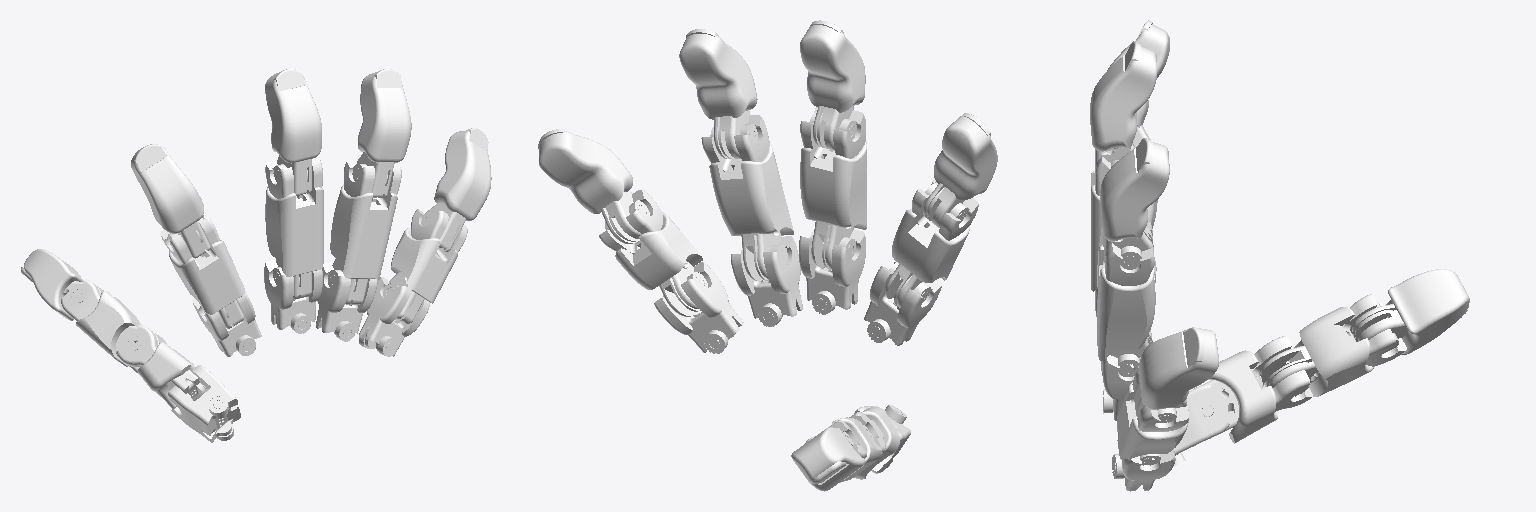
--- Facts derived from the render (not from the file) ---
Views: 3 orthographic renders of the robot side by side, from view 1: azimuth 30°, elevation 25°; view 2: azimuth 150°, elevation 25°; view 3: azimuth 270°, elevation 25°.
Robot: converted_robot — 47 links, 46 joints (16 revolute, 30 fixed); root link world; default pose: all joints at 0.
Links seen in each view (by area): view 1: ring_pp, middle_pp, ring_mp, middle_mp, pinky_pp, pinky_mp, index_mp, index_pp, thumb_mp, thumb_pp, thumb_base, pinky_um (+4 smaller); view 2: ring_pp, middle_pp, pinky_mp, ring_mp, pinky_pp, middle_mp, index_pp, index_mp, pinky_um, ring_um, middle_um, index_um (+4 smaller); view 3: thumb_mp, thumb_pp, ring_pp, ring_mp, thumb_dp, pinky_mp, middle_mp, pinky_pp, thumb_base, pinky_um, index_mp, middle_pp (+1 smaller).
Link boxes in pixels (left/top/right/bottom): ring_pp: left=328, top=160, right=401, bottom=304; middle_pp: left=265, top=160, right=323, bottom=299; ring_mp: left=352, top=69, right=411, bottom=197; middle_mp: left=265, top=69, right=321, bottom=195; pinky_pp: left=383, top=209, right=467, bottom=323; pinky_mp: left=421, top=128, right=491, bottom=251; index_mp: left=131, top=144, right=209, bottom=258; index_pp: left=160, top=215, right=244, bottom=328; thumb_mp: left=61, top=279, right=162, bottom=374; thumb_pp: left=117, top=325, right=206, bottom=408; thumb_base: left=168, top=365, right=240, bottom=442; pinky_um: left=359, top=277, right=429, bottom=356; ring_pp: left=701, top=115, right=793, bottom=280; middle_pp: left=800, top=107, right=866, bottom=269; pinky_mp: left=538, top=129, right=649, bottom=243; ring_mp: left=679, top=29, right=757, bottom=158; pinky_pp: left=599, top=190, right=707, bottom=316; middle_mp: left=800, top=20, right=865, bottom=150; index_pp: left=885, top=178, right=978, bottom=307; index_mp: left=923, top=113, right=997, bottom=227; pinky_um: left=654, top=262, right=743, bottom=353; ring_um: left=731, top=236, right=802, bottom=326; middle_um: left=799, top=229, right=865, bottom=314; index_um: left=864, top=261, right=941, bottom=345; thumb_mp: left=1260, top=294, right=1406, bottom=396; thumb_pp: left=1198, top=336, right=1312, bottom=443; ring_pp: left=1097, top=221, right=1155, bottom=376; ring_mp: left=1100, top=138, right=1169, bottom=269; thumb_dp: left=1352, top=269, right=1469, bottom=354; pinky_mp: left=1134, top=327, right=1218, bottom=422; middle_mp: left=1090, top=42, right=1156, bottom=170; pinky_pp: left=1117, top=371, right=1188, bottom=465; thumb_base: left=1173, top=385, right=1229, bottom=466; pinky_um: left=1112, top=422, right=1175, bottom=491; index_mp: left=1107, top=20, right=1169, bottom=144; middle_pp: left=1091, top=156, right=1110, bottom=310.
Bounding box of the posed robot: 0.1751 × 0.1241 × 0.1648 m (x, y, z).
Meshes: 9 distinct files referenced, 16 mesh visuals loaded (8 binary STL); not drawn: 1 (reference not matched to a file when rendering).

The robot description file, URDF, robot "converted_robot":
<?xml version="1.0" ?>
<robot name="converted_robot">
   <link name="world">
      <inertial>
         <origin xyz="0.0 0.0 0.0" rpy="0.0 0.0 0.0"/>
         <mass value="0.0"/>
         <inertia ixx="0.0" iyy="0.0" izz="0.0" ixy="0" ixz="0" iyz="0"/>
      </inertial>
   </link>
   <link name="root">
      <inertial>
         <origin xyz="0.0 0.0 0.0" rpy="0.0 0.0 0.0"/>
         <mass value="0.0"/>
         <inertia ixx="0.0" iyy="0.0" izz="0.0" ixy="0" ixz="0" iyz="0"/>
      </inertial>
   </link>
   <link name="world2root_fixed_jointbody">
      <inertial>
         <origin xyz="0.0 0.0 0.0" rpy="0.0 0.0 0.0"/>
         <mass value="0.001"/>
         <inertia ixx="1e-09" iyy="1e-09" izz="1e-09" ixy="0" ixz="0" iyz="0"/>
      </inertial>
   </link>
   <joint type="fixed" name="world2root_fixed">
      <parent link="world"/>
      <child link="world2root_fixed_jointbody"/>
      <origin xyz="0.0 0.0 0.0" rpy="0.0 0.0 0.0"/>
   </joint>
   <joint type="fixed" name="world2root_fixed_offset">
      <parent link="world2root_fixed_jointbody"/>
      <child link="root"/>
      <origin xyz="-0.0 -0.0 -0.0" rpy="0.0 0.0 0.0"/>
   </joint>
   <link name="palm">
      <inertial>
         <origin xyz="0.002881508885013908 -0.0012753763120547524 -0.00719047153594366" rpy="1.5601655784799395 0.04189793519330931 1.5819461028160493"/>
         <mass value="0.2126860092978223"/>
         <inertia ixx="0.00012178343495389645" iyy="8.316880938872915e-05" izz="5.69755490120493e-05" ixy="0" ixz="0" iyz="0"/>
      </inertial>
      <visual name="CarpalsAssembly">
         <origin xyz="0.002881508885013908 -0.0012753763120547524 -0.00719047153594366" rpy="1.5601655784799395 0.041897935193309754 1.5819461028160493"/>
         <geometry>
            <mesh filename="package://viz/models/orca_v1/urdf/converted_CarpalsAssembly.stl"/>
         </geometry>
         <material name="white"/>
      </visual>
   </link>
   <link name="root2palm_fixed_jointbody">
      <inertial>
         <origin xyz="0.0 0.0 0.0" rpy="0.0 0.0 0.0"/>
         <mass value="0.001"/>
         <inertia ixx="1e-09" iyy="1e-09" izz="1e-09" ixy="0" ixz="0" iyz="0"/>
      </inertial>
   </link>
   <joint type="fixed" name="root2palm_fixed">
      <parent link="root"/>
      <child link="root2palm_fixed_jointbody"/>
      <origin xyz="0.03862890845062728 0.0014412498723578074 0.14109038811689056" rpy="-6.123233995736781e-17 -4.440892098500626e-16 1.942890293094021e-16"/>
   </joint>
   <joint type="fixed" name="root2palm_fixed_offset">
      <parent link="root2palm_fixed_jointbody"/>
      <child link="palm"/>
      <origin xyz="-0.0 -0.0 -0.0" rpy="0.0 0.0 0.0"/>
   </joint>
   <link name="thumb_base">
      <inertial>
         <origin xyz="0.010529379149451916 -1.0212576814423867e-05 8.495774869309947e-06" rpy="1.57634205707723 0.005687598820466988 1.5702436138290756"/>
         <mass value="0.0074875144010899545"/>
         <inertia ixx="4.915455361035425e-07" iyy="4.2329004702934465e-07" izz="4.1073011191217545e-07" ixy="0" ixz="0" iyz="0"/>
      </inertial>
      <visual name="T-TP-Assembly">
         <origin xyz="0.010529379149451916 -1.0212576814423867e-05 8.495774869309947e-06" rpy="1.5763420570772302 0.005687598820466988 1.5702436138290758"/>
         <geometry>
            <mesh filename="package://viz/models/orca_v1/urdf/converted_T-TP-Assembly.stl"/>
         </geometry>
         <material name="white"/>
      </visual>
   </link>
   <link name="root2thumb_base_jointbody">
      <inertial>
         <origin xyz="0.0 0.0 0.0" rpy="0.0 0.0 0.0"/>
         <mass value="0.001"/>
         <inertia ixx="1e-09" iyy="1e-09" izz="1e-09" ixy="0" ixz="0" iyz="0"/>
      </inertial>
   </link>
   <joint type="revolute" name="root2thumb_base">
      <parent link="palm"/>
      <child link="root2thumb_base_jointbody"/>
      <origin xyz="-0.026596228805379245 0.012467608905357173 -0.013731317517900202" rpy="-2.623243999248972 0.36429799059196055 -1.2778314442697774"/>
      <axis xyz="-2.920774733183862e-12 3.3306690738754696e-16 1.0000000000000002"/>
      <limit lower="-0.9250245035569946" upper="0.8377580409572782" effort="100" velocity="100"/>
   </joint>
   <joint type="fixed" name="root2thumb_base_offset">
      <parent link="root2thumb_base_jointbody"/>
      <child link="thumb_base"/>
      <origin xyz="-0.016999999999975042 -6.852157730108388e-17 -2.7301511745791984e-14" rpy="0.0 0.0 0.0"/>
   </joint>
   <link name="thumb_pp">
      <inertial>
         <origin xyz="0.01701004352669714 4.7003303999020595e-05 -8.686628129100978e-05" rpy="1.626541463931455 -1.4723264578922137 1.5252609362500364"/>
         <mass value="0.01402737042708516"/>
         <inertia ixx="1.3800850209807166e-06" iyy="1.1809029407566535e-06" izz="6.941321836664285e-07" ixy="0" ixz="0" iyz="0"/>
      </inertial>
      <visual name="T-AP-Assembly">
         <origin xyz="0.01701004352669714 4.7003303999020595e-05 -8.686628129100978e-05" rpy="1.6265414639314582 -1.4723264578922137 1.5252609362500333"/>
         <geometry>
            <mesh filename="package://viz/models/orca_v1/urdf/converted_T-AP-Assembly.stl"/>
         </geometry>
         <material name="white"/>
      </visual>
   </link>
   <link name="thumb_base2pp_jointbody">
      <inertial>
         <origin xyz="0.0 0.0 0.0" rpy="0.0 0.0 0.0"/>
         <mass value="0.001"/>
         <inertia ixx="1e-09" iyy="1e-09" izz="1e-09" ixy="0" ixz="0" iyz="0"/>
      </inertial>
   </link>
   <joint type="revolute" name="thumb_base2pp">
      <parent link="thumb_base"/>
      <child link="thumb_base2pp_jointbody"/>
      <origin xyz="-2.0816681711721685e-17 -0.006690243410563722 -0.00030669391648898483" rpy="1.9198621771937625 2.220446049250313e-16 -1.1102230246251565e-16"/>
      <axis xyz="-1.1102230246251565e-16 0.34202014332566866 0.9396926207859075"/>
      <limit lower="-0.7853981633974483" upper="0.7853981633974483" effort="100" velocity="100"/>
   </joint>
   <joint type="fixed" name="thumb_base2pp_offset">
      <parent link="thumb_base2pp_jointbody"/>
      <child link="thumb_pp"/>
      <origin xyz="-0.03 -0.002 -0.0063916678614429154" rpy="0.0 0.0 0.0"/>
   </joint>
   <link name="thumb_mp">
      <inertial>
         <origin xyz="0.0014151363770926754 5.956925618599269e-06 0.013627702691985757" rpy="-0.0012564590227194135 0.024765536359687035 0.0006197733490160217"/>
         <mass value="0.015497848277221124"/>
         <inertia ixx="1.846626969865921e-06" iyy="1.771855178330145e-06" izz="6.563672279788464e-07" ixy="0" ixz="0" iyz="0"/>
      </inertial>
      <visual name="P-PP-Assembly">
         <origin xyz="0.0014151363770926754 5.956925618599269e-06 0.013627702691985757" rpy="-0.0012564590227194135 0.024765536359687035 0.0006197733490160217"/>
         <geometry>
            <mesh filename="package://viz/models/orca_v1/urdf/converted_P-PP-Assembly.stl"/>
         </geometry>
         <material name="white"/>
      </visual>
   </link>
   <link name="thumb_pp2mp_jointbody">
      <inertial>
         <origin xyz="0.0 0.0 0.0" rpy="0.0 0.0 0.0"/>
         <mass value="0.001"/>
         <inertia ixx="1e-09" iyy="1e-09" izz="1e-09" ixy="0" ixz="0" iyz="0"/>
      </inertial>
   </link>
   <joint type="revolute" name="thumb_pp2mp">
      <parent link="thumb_pp"/>
      <child link="thumb_pp2mp_jointbody"/>
      <origin xyz="4.708523807784693e-17 1.513645907263937e-16 -4.2834101494079344e-17" rpy="-3.1415926535897927 1.5707963267948948 0.0"/>
      <axis xyz="-1.27675647831893e-15 -0.9999999999999994 4.996003610813204e-16"/>
      <limit lower="-0.3490658503988659" upper="2.007128639793479" effort="100" velocity="100"/>
   </joint>
   <joint type="fixed" name="thumb_pp2mp_offset">
      <parent link="thumb_pp2mp_jointbody"/>
      <child link="thumb_mp"/>
      <origin xyz="0.0 0.0 0.0" rpy="0.0 0.0 0.0"/>
   </joint>
   <link name="thumb_dp">
      <inertial>
         <origin xyz="0.0019263407363933048 1.4557758490367377e-05 0.013252605089620229" rpy="0.0005042469448421566 -0.01731928165759511 -0.007693848109361373"/>
         <mass value="0.01818889883021656"/>
         <inertia ixx="1.7342479877374563e-06" iyy="1.6928601517092007e-06" izz="6.72000990269703e-07" ixy="0" ixz="0" iyz="0"/>
      </inertial>
      <visual name="ThumbTipAssembly">
         <origin xyz="0.0019263407363933048 1.4557758490367377e-05 0.013252605089620229" rpy="0.0005042469448421566 -0.01731928165759511 -0.007693848109361373"/>
         <geometry>
            <mesh filename="package://viz/models/orca_v1/urdf/converted_ThumbTipAssembly.stl"/>
         </geometry>
         <material name="white"/>
      </visual>
   </link>
   <link name="thumb_mp2dp_jointbody">
      <inertial>
         <origin xyz="0.0 0.0 0.0" rpy="0.0 0.0 0.0"/>
         <mass value="0.001"/>
         <inertia ixx="1e-09" iyy="1e-09" izz="1e-09" ixy="0" ixz="0" iyz="0"/>
      </inertial>
   </link>
   <joint type="revolute" name="thumb_mp2dp">
      <parent link="thumb_mp"/>
      <child link="thumb_mp2dp_jointbody"/>
      <origin xyz="0.0004999999999845258 1.960237527853792e-16 0.03299999999999989" rpy="-4.440892098500625e-16 -4.440892098500626e-16 -1.110223024625157e-15"/>
      <axis xyz="-1.3877787807814457e-16 -1.0000000000000018 1.6653345369377348e-16"/>
      <limit lower="-0.3490658503988659" upper="1.7453292519943295" effort="100" velocity="100"/>
   </joint>
   <joint type="fixed" name="thumb_mp2dp_offset">
      <parent link="thumb_mp2dp_jointbody"/>
      <child link="thumb_dp"/>
      <origin xyz="0.0 0.0 -0.0" rpy="0.0 0.0 0.0"/>
   </joint>
   <link name="thumb_fingertip">
      <inertial>
         <origin xyz="0.0 0.0 0.03" rpy="0.0 0.0 0.0"/>
         <mass value="0.0"/>
         <inertia ixx="0.0" iyy="0.0" izz="0.0" ixy="0" ixz="0" iyz="0"/>
      </inertial>
   </link>
   <link name="thumb_dp2thumb_fingertip_fixed_jointbody">
      <inertial>
         <origin xyz="0.0 0.0 0.0" rpy="0.0 0.0 0.0"/>
         <mass value="0.001"/>
         <inertia ixx="1e-09" iyy="1e-09" izz="1e-09" ixy="0" ixz="0" iyz="0"/>
      </inertial>
   </link>
   <joint type="fixed" name="thumb_dp2thumb_fingertip_fixed">
      <parent link="thumb_dp"/>
      <child link="thumb_dp2thumb_fingertip_fixed_jointbody"/>
      <origin xyz="0.0 0.0 0.03" rpy="0.0 0.0 0.0"/>
   </joint>
   <joint type="fixed" name="thumb_dp2thumb_fingertip_fixed_offset">
      <parent link="thumb_dp2thumb_fingertip_fixed_jointbody"/>
      <child link="thumb_fingertip"/>
      <origin xyz="-0.0 -0.0 -0.0" rpy="0.0 0.0 0.0"/>
   </joint>
   <link name="index_um">
      <inertial>
         <origin xyz="0.011354078973426326 -1.7071698548170895e-06 -3.5584781475470163e-06" rpy="-0.7312124368167698 -1.5694148998517659 -2.4105624217590647"/>
         <mass value="0.006625913032045117"/>
         <inertia ixx="4.786348664569036e-07" iyy="4.4192916777269033e-07" izz="2.7095034582421024e-07" ixy="0" ixz="0" iyz="0"/>
      </inertial>
      <visual name="AP-Assembly">
         <origin xyz="0.011354078973426326 -1.7071698548170895e-06 -3.5584781475470163e-06" rpy="-0.7312124368167698 -1.5694148998517659 -2.4105624217590647"/>
         <geometry>
            <mesh filename="package://viz/models/orca_v1/urdf/converted_AP-Assembly.stl"/>
         </geometry>
         <material name="white"/>
      </visual>
   </link>
   <link name="index_abd_jointbody">
      <inertial>
         <origin xyz="0.0 0.0 0.0" rpy="0.0 0.0 0.0"/>
         <mass value="0.001"/>
         <inertia ixx="1e-09" iyy="1e-09" izz="1e-09" ixy="0" ixz="0" iyz="0"/>
      </inertial>
   </link>
   <joint type="revolute" name="index_abd">
      <parent link="palm"/>
      <child link="index_abd_jointbody"/>
      <origin xyz="-0.02409178493002779 0.0019042822195537534 0.025160679302658893" rpy="1.608102038715379 1.1529632074851635 -0.051848338904223135"/>
      <axis xyz="4.163336342344337e-17 9.992007221626409e-16 -1.0000000000000013"/>
      <limit lower="-0.5235987755982988" upper="0.5235987755982988" effort="100" velocity="100"/>
   </joint>
   <joint type="fixed" name="index_abd_offset">
      <parent link="index_abd_jointbody"/>
      <child link="index_um"/>
      <origin xyz="-0.020000000000000052 2.3852447794681098e-18 -4.336808689942018e-19" rpy="0.0 0.0 0.0"/>
   </joint>
   <link name="index_pp">
      <inertial>
         <origin xyz="0.0014143363519175582 4.156494435167203e-06 0.01613338680226874" rpy="-0.001102572366200157 0.015527459248408038 0.0006067795128342916"/>
         <mass value="0.018700586463984262"/>
         <inertia ixx="2.662336289616557e-06" iyy="2.5653412309208117e-06" izz="8.02677011751458e-07" ixy="0" ixz="0" iyz="0"/>
      </inertial>
      <visual name="I-PP-Assembly">
         <origin xyz="0.0014143363519175582 4.156494435167203e-06 0.01613338680226874" rpy="-0.001102572366200157 0.015527459248408038 0.0006067795128342916"/>
         <geometry>
            <mesh filename="package://viz/models/orca_v1/urdf/converted_I-PP-Assembly.stl"/>
         </geometry>
         <material name="white"/>
      </visual>
   </link>
   <link name="root2index_pp_jointbody">
      <inertial>
         <origin xyz="0.0 0.0 0.0" rpy="0.0 0.0 0.0"/>
         <mass value="0.001"/>
         <inertia ixx="1e-09" iyy="1e-09" izz="1e-09" ixy="0" ixz="0" iyz="0"/>
      </inertial>
   </link>
   <joint type="revolute" name="root2index_pp">
      <parent link="index_um"/>
      <child link="root2index_pp_jointbody"/>
      <origin xyz="-2.5541056475587942e-17 1.0557908552474885e-17 -8.628646044820514e-18" rpy="-7.850462293418875e-17 -1.5707963267948963 0.0"/>
      <axis xyz="-1.1102230246251565e-15 -0.9999999999999998 -8.326672684688674e-17"/>
      <limit lower="-0.3490658503988659" upper="1.9198621771937625" effort="100" velocity="100"/>
   </joint>
   <joint type="fixed" name="root2index_pp_offset">
      <parent link="root2index_pp_jointbody"/>
      <child link="index_pp"/>
      <origin xyz="8.62864604482052e-18 -1.0557908552474884e-17 -2.5541056475587933e-17" rpy="0.0 0.0 0.0"/>
   </joint>
   <link name="index_mp">
      <inertial>
         <origin xyz="0.0004395758025904904 2.294210842752089e-05 0.017234999921076924" rpy="-0.0002952414540531474 -0.13694120498566353 0.004582776782163111"/>
         <mass value="0.018229214728618118"/>
         <inertia ixx="2.7483316705449915e-06" iyy="2.7260398150926247e-06" izz="5.982307965118894e-07" ixy="0" ixz="0" iyz="0"/>
      </inertial>
      <visual name="FingerTipAssembly">
         <origin xyz="0.0004395758025904904 2.294210842752089e-05 0.017234999921076924" rpy="-0.0002952414540531474 -0.13694120498566353 0.004582776782163111"/>
         <geometry>
            <mesh filename="package://viz/models/orca_v1/urdf/converted_FingerTipAssembly.stl"/>
         </geometry>
         <material name="white"/>
      </visual>
   </link>
   <link name="index_pp2mp_jointbody">
      <inertial>
         <origin xyz="0.0 0.0 0.0" rpy="0.0 0.0 0.0"/>
         <mass value="0.001"/>
         <inertia ixx="1e-09" iyy="1e-09" izz="1e-09" ixy="0" ixz="0" iyz="0"/>
      </inertial>
   </link>
   <joint type="revolute" name="index_pp2mp">
      <parent link="index_pp"/>
      <child link="index_pp2mp_jointbody"/>
      <origin xyz="0.0004999999999839601 6.589248156966668e-17 0.038" rpy="0.0 0.0 1.1102230246251565e-16"/>
      <axis xyz="-1.1102230246251565e-15 -0.9999999999999998 -8.326672684688674e-17"/>
      <limit lower="-0.3490658503988659" upper="2.2689280275926285" effort="100" velocity="100"/>
   </joint>
   <joint type="fixed" name="index_pp2mp_offset">
      <parent link="index_pp2mp_jointbody"/>
      <child link="index_mp"/>
      <origin xyz="4.506562989359519e-18 -5.895358766575946e-17 -6.487401240321147e-17" rpy="0.0 0.0 0.0"/>
   </joint>
   <link name="index_fingertip">
      <inertial>
         <origin xyz="-0.009 0.0 0.04" rpy="0.0 0.0 0.0"/>
         <mass value="0.0"/>
         <inertia ixx="0.0" iyy="0.0" izz="0.0" ixy="0" ixz="0" iyz="0"/>
      </inertial>
   </link>
   <link name="index_mp2index_fingertip_fixed_jointbody">
      <inertial>
         <origin xyz="0.0 0.0 0.0" rpy="0.0 0.0 0.0"/>
         <mass value="0.001"/>
         <inertia ixx="1e-09" iyy="1e-09" izz="1e-09" ixy="0" ixz="0" iyz="0"/>
      </inertial>
   </link>
   <joint type="fixed" name="index_mp2index_fingertip_fixed">
      <parent link="index_mp"/>
      <child link="index_mp2index_fingertip_fixed_jointbody"/>
      <origin xyz="-0.009 0.0 0.04" rpy="0.0 0.0 0.0"/>
   </joint>
   <joint type="fixed" name="index_mp2index_fingertip_fixed_offset">
      <parent link="index_mp2index_fingertip_fixed_jointbody"/>
      <child link="index_fingertip"/>
      <origin xyz="-0.0 -0.0 -0.0" rpy="0.0 0.0 0.0"/>
   </joint>
   <link name="pinky_um">
      <inertial>
         <origin xyz="0.011354078973426326 -1.7071698548170895e-06 -3.5584781475470163e-06" rpy="-0.7312124368167698 -1.5694148998517659 -2.4105624217590647"/>
         <mass value="0.006625913032045117"/>
         <inertia ixx="4.786348664569036e-07" iyy="4.4192916777269033e-07" izz="2.7095034582421024e-07" ixy="0" ixz="0" iyz="0"/>
      </inertial>
      <visual name="AP-Assembly">
         <origin xyz="0.011354078973426326 -1.7071698548170895e-06 -3.5584781475470163e-06" rpy="-0.7312124368167698 -1.5694148998517659 -2.4105624217590647"/>
         <geometry>
            <mesh filename="package://viz/models/orca_v1/urdf/converted_AP-Assembly.stl"/>
         </geometry>
         <material name="white"/>
      </visual>
   </link>
   <link name="pinky_abd_jointbody">
      <inertial>
         <origin xyz="0.0 0.0 0.0" rpy="0.0 0.0 0.0"/>
         <mass value="0.001"/>
         <inertia ixx="1e-09" iyy="1e-09" izz="1e-09" ixy="0" ixz="0" iyz="0"/>
      </inertial>
   </link>
   <joint type="revolute" name="pinky_abd">
      <parent link="palm"/>
      <child link="pinky_abd_jointbody"/>
      <origin xyz="0.04258768282792981 0.004991925321003577 0.007247738795820427" rpy="-1.4969430651841689 0.8614853700810636 -2.883730096597108"/>
      <axis xyz="1.942890293094024e-16 -5.551115123125783e-16 -0.9999999999999997"/>
      <limit lower="-0.5235987755982988" upper="0.5235987755982988" effort="100" velocity="100"/>
   </joint>
   <joint type="fixed" name="pinky_abd_offset">
      <parent link="pinky_abd_jointbody"/>
      <child link="pinky_um"/>
      <origin xyz="-0.020000000000000014 -2.42861286636753e-17 -6.071532165918825e-18" rpy="0.0 0.0 0.0"/>
   </joint>
   <link name="pinky_pp">
      <inertial>
         <origin xyz="0.0014151363770926754 5.956925618599269e-06 0.013627702691985757" rpy="-0.0012564590227194135 0.024765536359687035 0.0006197733490160217"/>
         <mass value="0.015497848277221124"/>
         <inertia ixx="1.846626969865921e-06" iyy="1.771855178330145e-06" izz="6.563672279788464e-07" ixy="0" ixz="0" iyz="0"/>
      </inertial>
      <visual name="P-PP-Assembly">
         <origin xyz="0.0014151363770926754 5.956925618599269e-06 0.013627702691985757" rpy="-0.0012564590227194135 0.024765536359687035 0.0006197733490160217"/>
         <geometry>
            <mesh filename="package://viz/models/orca_v1/urdf/converted_P-PP-Assembly.stl"/>
         </geometry>
         <material name="white"/>
      </visual>
   </link>
   <link name="root2pinky_pp_jointbody">
      <inertial>
         <origin xyz="0.0 0.0 0.0" rpy="0.0 0.0 0.0"/>
         <mass value="0.001"/>
         <inertia ixx="1e-09" iyy="1e-09" izz="1e-09" ixy="0" ixz="0" iyz="0"/>
      </inertial>
   </link>
   <joint type="revolute" name="root2pinky_pp">
      <parent link="pinky_um"/>
      <child link="root2pinky_pp_jointbody"/>
      <origin xyz="-9.80194474041885e-17 2.8970456895533516e-17 -1.0346526674750982e-18" rpy="7.850462293418872e-17 -1.5707963267948961 0.0"/>
      <axis xyz="-1.6653345369377348e-16 -1.0000000000000004 -2.220446049250313e-16"/>
      <limit lower="-0.3490658503988659" upper="1.9198621771937625" effort="100" velocity="100"/>
   </joint>
   <joint type="fixed" name="root2pinky_pp_offset">
      <parent link="root2pinky_pp_jointbody"/>
      <child link="pinky_pp"/>
      <origin xyz="-3.4409772224679328e-18 -3.9175276362032155e-17 -1.0647123163719203e-16" rpy="0.0 0.0 0.0"/>
   </joint>
   <link name="pinky_mp">
      <inertial>
         <origin xyz="0.0004395758025904904 2.294210842752089e-05 0.017234999921076924" rpy="-0.0002952414540531474 -0.13694120498566353 0.004582776782163111"/>
         <mass value="0.018229214728618118"/>
         <inertia ixx="2.7483316705449915e-06" iyy="2.7260398150926247e-06" izz="5.982307965118894e-07" ixy="0" ixz="0" iyz="0"/>
      </inertial>
      <visual name="FingerTipAssembly">
         <origin xyz="0.0004395758025904904 2.294210842752089e-05 0.017234999921076924" rpy="-0.0002952414540531474 -0.13694120498566353 0.004582776782163111"/>
         <geometry>
            <mesh filename="package://viz/models/orca_v1/urdf/converted_FingerTipAssembly.stl"/>
         </geometry>
         <material name="white"/>
      </visual>
   </link>
   <link name="pinky_pp2mp_jointbody">
      <inertial>
         <origin xyz="0.0 0.0 0.0" rpy="0.0 0.0 0.0"/>
         <mass value="0.001"/>
         <inertia ixx="1e-09" iyy="1e-09" izz="1e-09" ixy="0" ixz="0" iyz="0"/>
      </inertial>
   </link>
   <joint type="revolute" name="pinky_pp2mp">
      <parent link="pinky_pp"/>
      <child link="pinky_pp2mp_jointbody"/>
      <origin xyz="0.0004999999999844908 -2.39390297194962e-18 0.032999999999999946" rpy="-1.1102230246251565e-16 0.0 -1.1102230246251565e-16"/>
      <axis xyz="-2.7755575615628914e-16 -1.0000000000000007 -2.498001805406602e-16"/>
      <limit lower="-0.3490658503988659" upper="2.2689280275926285" effort="100" velocity="100"/>
   </joint>
   <joint type="fixed" name="pinky_pp2mp_offset">
      <parent link="pinky_pp2mp_jointbody"/>
      <child link="pinky_mp"/>
      <origin xyz="4.630531374131085e-18 3.7088372491485756e-17 3.145406773126967e-17" rpy="0.0 0.0 0.0"/>
   </joint>
   <link name="pinky_fingertip">
      <inertial>
         <origin xyz="-0.009 0.0 0.04" rpy="0.0 0.0 0.0"/>
         <mass value="0.0"/>
         <inertia ixx="0.0" iyy="0.0" izz="0.0" ixy="0" ixz="0" iyz="0"/>
      </inertial>
   </link>
   <link name="pinky_mp2pinky_fingertip_fixed_jointbody">
      <inertial>
         <origin xyz="0.0 0.0 0.0" rpy="0.0 0.0 0.0"/>
         <mass value="0.001"/>
         <inertia ixx="1e-09" iyy="1e-09" izz="1e-09" ixy="0" ixz="0" iyz="0"/>
      </inertial>
   </link>
   <joint type="fixed" name="pinky_mp2pinky_fingertip_fixed">
      <parent link="pinky_mp"/>
      <child link="pinky_mp2pinky_fingertip_fixed_jointbody"/>
      <origin xyz="-0.009 0.0 0.04" rpy="0.0 0.0 0.0"/>
   </joint>
   <joint type="fixed" name="pinky_mp2pinky_fingertip_fixed_offset">
      <parent link="pinky_mp2pinky_fingertip_fixed_jointbody"/>
      <child link="pinky_fingertip"/>
      <origin xyz="-0.0 -0.0 -0.0" rpy="0.0 0.0 0.0"/>
   </joint>
   <link name="middle_um">
      <inertial>
         <origin xyz="0.011354078973426326 -1.7071698548170895e-06 -3.5584781475470163e-06" rpy="-0.7312124368167698 -1.5694148998517659 -2.4105624217590647"/>
         <mass value="0.006625913032045117"/>
         <inertia ixx="4.786348664569036e-07" iyy="4.4192916777269033e-07" izz="2.7095034582421024e-07" ixy="0" ixz="0" iyz="0"/>
      </inertial>
      <visual name="AP-Assembly">
         <origin xyz="0.011354078973426326 -1.7071698548170895e-06 -3.5584781475470163e-06" rpy="-0.7312124368167698 -1.5694148998517659 -2.4105624217590647"/>
         <geometry>
            <mesh filename="package://viz/models/orca_v1/urdf/converted_AP-Assembly.stl"/>
         </geometry>
         <material name="white"/>
      </visual>
   </link>
   <link name="middle_abd_jointbody">
      <inertial>
         <origin xyz="0.0 0.0 0.0" rpy="0.0 0.0 0.0"/>
         <mass value="0.001"/>
         <inertia ixx="1e-09" iyy="1e-09" izz="1e-09" ixy="0" ixz="0" iyz="0"/>
      </inertial>
   </link>
   <joint type="revolute" name="middle_abd">
      <parent link="palm"/>
      <child link="middle_abd_jointbody"/>
      <origin xyz="4.881579836291013e-18 -8.567697285510997e-18 0.03" rpy="1.5707963267948966 1.5707963267948966 0.0"/>
      <axis xyz="-9.645057161491277e-31 -1.6653345369377348e-16 -0.9999999999999998"/>
      <limit lower="-0.5235987755982988" upper="0.5235987755982988" effort="100" velocity="100"/>
   </joint>
   <joint type="fixed" name="middle_abd_offset">
      <parent link="middle_abd_jointbody"/>
      <child link="middle_um"/>
      <origin xyz="-0.019999999999999987 -3.771356811665857e-18 1.701695755040975e-18" rpy="0.0 0.0 0.0"/>
   </joint>
   <link name="middle_pp">
      <inertial>
         <origin xyz="0.0015215641155183913 3.409155126104343e-06 0.019988197676665105" rpy="-0.0008675700761155622 0.013815007172908844 0.001849376719566181"/>
         <mass value="0.023556963904505242"/>
         <inertia ixx="4.4203229364973464e-06" iyy="4.276694367220302e-06" izz="1.0089823927588865e-06" ixy="0" ixz="0" iyz="0"/>
      </inertial>
      <visual name="M-PP-Assembly">
         <origin xyz="0.0015215641155183913 3.409155126104343e-06 0.019988197676665105" rpy="-0.000867570076115562 0.013815007172908844 0.0018493767195661807"/>
         <geometry>
            <mesh filename="package://viz/models/orca_v1/urdf/converted_M-PP-Assembly.stl"/>
         </geometry>
         <material name="white"/>
      </visual>
   </link>
   <link name="root2middle_pp_jointbody">
      <inertial>
         <origin xyz="0.0 0.0 0.0" rpy="0.0 0.0 0.0"/>
         <mass value="0.001"/>
         <inertia ixx="1e-09" iyy="1e-09" izz="1e-09" ixy="0" ixz="0" iyz="0"/>
      </inertial>
   </link>
   <joint type="revolute" name="root2middle_pp">
      <parent link="middle_um"/>
      <child link="root2middle_pp_jointbody"/>
      <origin xyz="-8.326672684688675e-17 1.0477058897466563e-31 9.860761315262648e-32" rpy="0.0 -1.5707963267948963 0.0"/>
      <axis xyz="1.1102230246251565e-16 -1.0000000000000004 -2.7755575615628914e-17"/>
      <limit lower="-0.3490658503988659" upper="1.9198621771937625" effort="100" velocity="100"/>
   </joint>
   <joint type="fixed" name="root2middle_pp_offset">
      <parent link="root2middle_pp_jointbody"/>
      <child link="middle_pp"/>
      <origin xyz="-8.011868568650901e-32 -1.0477058897466563e-31 -8.326672684688675e-17" rpy="0.0 0.0 0.0"/>
   </joint>
   <link name="middle_mp">
      <inertial>
         <origin xyz="0.0004395758025904904 2.294210842752089e-05 0.017234999921076924" rpy="-0.0002952414540531474 -0.13694120498566353 0.004582776782163111"/>
         <mass value="0.018229214728618118"/>
         <inertia ixx="2.7483316705449915e-06" iyy="2.7260398150926247e-06" izz="5.982307965118894e-07" ixy="0" ixz="0" iyz="0"/>
      </inertial>
      <visual name="FingerTipAssembly">
         <origin xyz="0.0004395758025904904 2.294210842752089e-05 0.017234999921076924" rpy="-0.0002952414540531474 -0.13694120498566353 0.004582776782163111"/>
         <geometry>
            <mesh filename="package://viz/models/orca_v1/urdf/converted_FingerTipAssembly.stl"/>
         </geometry>
         <material name="white"/>
      </visual>
   </link>
   <link name="middle_pp2mp_jointbody">
      <inertial>
         <origin xyz="0.0 0.0 0.0" rpy="0.0 0.0 0.0"/>
         <mass value="0.001"/>
         <inertia ixx="1e-09" iyy="1e-09" izz="1e-09" ixy="0" ixz="0" iyz="0"/>
      </inertial>
   </link>
   <joint type="revolute" name="middle_pp2mp">
      <parent link="middle_pp"/>
      <child link="middle_pp2mp_jointbody"/>
      <origin xyz="0.0004999999999727624 -3.4694469519535125e-18 0.04600000000000015" rpy="0.0 0.0 0.0"/>
      <axis xyz="1.1102230246251565e-16 -1.0000000000000004 -2.7755575615628914e-17"/>
      <limit lower="-0.3490658503988659" upper="2.2689280275926285" effort="100" velocity="100"/>
   </joint>
   <joint type="fixed" name="middle_pp2mp_offset">
      <parent link="middle_pp2mp_jointbody"/>
      <child link="middle_mp"/>
      <origin xyz="-5.421010862428354e-19 -1.0168910106364605e-31 -8.326672684688675e-17" rpy="0.0 0.0 0.0"/>
   </joint>
   <link name="middle_fingertip">
      <inertial>
         <origin xyz="-0.009 0.0 0.04" rpy="0.0 0.0 0.0"/>
         <mass value="0.0"/>
         <inertia ixx="0.0" iyy="0.0" izz="0.0" ixy="0" ixz="0" iyz="0"/>
      </inertial>
   </link>
   <link name="middle_mp2middle_fingertip_fixed_jointbody">
      <inertial>
         <origin xyz="0.0 0.0 0.0" rpy="0.0 0.0 0.0"/>
         <mass value="0.001"/>
         <inertia ixx="1e-09" iyy="1e-09" izz="1e-09" ixy="0" ixz="0" iyz="0"/>
      </inertial>
   </link>
   <joint type="fixed" name="middle_mp2middle_fingertip_fixed">
      <parent link="middle_mp"/>
      <child link="middle_mp2middle_fingertip_fixed_jointbody"/>
      <origin xyz="-0.009 0.0 0.04" rpy="0.0 0.0 0.0"/>
   </joint>
   <joint type="fixed" name="middle_mp2middle_fingertip_fixed_offset">
      <parent link="middle_mp2middle_fingertip_fixed_jointbody"/>
      <child link="middle_fingertip"/>
      <origin xyz="-0.0 -0.0 -0.0" rpy="0.0 0.0 0.0"/>
   </joint>
   <link name="ring_um">
      <inertial>
         <origin xyz="0.011354078973426326 -1.7071698548170895e-06 -3.5584781475470163e-06" rpy="-0.7312124368167698 -1.5694148998517659 -2.4105624217590647"/>
         <mass value="0.006625913032045117"/>
         <inertia ixx="4.786348664569036e-07" iyy="4.4192916777269033e-07" izz="2.7095034582421024e-07" ixy="0" ixz="0" iyz="0"/>
      </inertial>
      <visual name="AP-Assembly">
         <origin xyz="0.011354078973426326 -1.7071698548170895e-06 -3.5584781475470163e-06" rpy="-0.7312124368167698 -1.5694148998517659 -2.4105624217590647"/>
         <geometry>
            <mesh filename="package://viz/models/orca_v1/urdf/converted_AP-Assembly.stl"/>
         </geometry>
         <material name="white"/>
      </visual>
   </link>
   <link name="ring_abd_jointbody">
      <inertial>
         <origin xyz="0.0 0.0 0.0" rpy="0.0 0.0 0.0"/>
         <mass value="0.001"/>
         <inertia ixx="1e-09" iyy="1e-09" izz="1e-09" ixy="0" ixz="0" iyz="0"/>
      </inertial>
   </link>
   <joint type="revolute" name="ring_abd">
      <parent link="palm"/>
      <child link="ring_abd_jointbody"/>
      <origin xyz="0.02151626244325177 0.001539966070889325 0.02082193721565796" rpy="-1.5359724334240115 1.3083608795701225 -3.054411807001147"/>
      <axis xyz="2.0816681711721685e-16 -1.1102230246251565e-16 -0.9999999999999998"/>
      <limit lower="-0.5235987755982988" upper="0.5235987755982988" effort="100" velocity="100"/>
   </joint>
   <joint type="fixed" name="ring_abd_offset">
      <parent link="ring_abd_jointbody"/>
      <child link="ring_um"/>
      <origin xyz="-0.020000000000000052 4.640385298237959e-17 -5.421010862427522e-18" rpy="0.0 0.0 0.0"/>
   </joint>
   <link name="ring_pp">
      <inertial>
         <origin xyz="0.0015215641155183913 3.409155126104343e-06 0.019988197676665105" rpy="-0.0008675700761155622 0.013815007172908844 0.001849376719566181"/>
         <mass value="0.023556963904505242"/>
         <inertia ixx="4.4203229364973464e-06" iyy="4.276694367220302e-06" izz="1.0089823927588865e-06" ixy="0" ixz="0" iyz="0"/>
      </inertial>
      <visual name="M-PP-Assembly">
         <origin xyz="0.0015215641155183913 3.409155126104343e-06 0.019988197676665105" rpy="-0.000867570076115562 0.013815007172908844 0.0018493767195661807"/>
         <geometry>
            <mesh filename="package://viz/models/orca_v1/urdf/converted_M-PP-Assembly.stl"/>
         </geometry>
         <material name="white"/>
      </visual>
   </link>
   <link name="root2ring_pp_jointbody">
      <inertial>
         <origin xyz="0.0 0.0 0.0" rpy="0.0 0.0 0.0"/>
         <mass value="0.001"/>
         <inertia ixx="1e-09" iyy="1e-09" izz="1e-09" ixy="0" ixz="0" iyz="0"/>
      </inertial>
   </link>
   <joint type="revolute" name="root2ring_pp">
      <parent link="ring_um"/>
      <child link="root2ring_pp_jointbody"/>
      <origin xyz="5.000422469950927e-17 2.7821222532288604e-17 -6.247486316027035e-19" rpy="0.0 -1.5707963267948963 0.0"/>
      <axis xyz="0.0 -0.9999999999999998 -5.551115123125783e-17"/>
      <limit lower="-0.3490658503988659" upper="1.9198621771937625" effort="100" velocity="100"/>
   </joint>
   <joint type="fixed" name="root2ring_pp_offset">
      <parent link="root2ring_pp_jointbody"/>
      <child link="ring_pp"/>
      <origin xyz="6.247486316026924e-19 -2.7821222532288604e-17 5.000422469950927e-17" rpy="0.0 0.0 0.0"/>
   </joint>
   <link name="ring_mp">
      <inertial>
         <origin xyz="0.0004395758025904904 2.294210842752089e-05 0.017234999921076924" rpy="-0.0002952414540531474 -0.13694120498566353 0.004582776782163111"/>
         <mass value="0.018229214728618118"/>
         <inertia ixx="2.7483316705449915e-06" iyy="2.7260398150926247e-06" izz="5.982307965118894e-07" ixy="0" ixz="0" iyz="0"/>
      </inertial>
      <visual name="FingerTipAssembly">
         <origin xyz="0.0004395758025904904 2.294210842752089e-05 0.017234999921076924" rpy="-0.0002952414540531474 -0.13694120498566353 0.004582776782163111"/>
         <geometry>
            <mesh filename="package://viz/models/orca_v1/urdf/converted_FingerTipAssembly.stl"/>
         </geometry>
         <material name="white"/>
      </visual>
   </link>
   <link name="ring_pp2mp_jointbody">
      <inertial>
         <origin xyz="0.0 0.0 0.0" rpy="0.0 0.0 0.0"/>
         <mass value="0.001"/>
         <inertia ixx="1e-09" iyy="1e-09" izz="1e-09" ixy="0" ixz="0" iyz="0"/>
      </inertial>
   </link>
   <joint type="revolute" name="ring_pp2mp">
      <parent link="ring_pp"/>
      <child link="ring_pp2mp_jointbody"/>
      <origin xyz="0.0004999999999727536 -3.2334689427772335e-19 0.046000000000000194" rpy="5.551115123125783e-17 0.0 1.1102230246251565e-16"/>
      <axis xyz="0.0 -0.9999999999999998 -5.551115123125783e-17"/>
      <limit lower="-0.3490658503988659" upper="2.2689280275926285" effort="100" velocity="100"/>
   </joint>
   <joint type="fixed" name="ring_pp2mp_offset">
      <parent link="ring_pp2mp_jointbody"/>
      <child link="ring_mp"/>
      <origin xyz="6.5371804131346096e-18 1.5935858178068978e-17 -1.6822041242320552e-16" rpy="0.0 0.0 0.0"/>
   </joint>
   <link name="ring_fingertip">
      <inertial>
         <origin xyz="-0.009 0.0 0.04" rpy="0.0 0.0 0.0"/>
         <mass value="0.0"/>
         <inertia ixx="0.0" iyy="0.0" izz="0.0" ixy="0" ixz="0" iyz="0"/>
      </inertial>
   </link>
   <link name="ring_mp2ring_fingertip_fixed_jointbody">
      <inertial>
         <origin xyz="0.0 0.0 0.0" rpy="0.0 0.0 0.0"/>
         <mass value="0.001"/>
         <inertia ixx="1e-09" iyy="1e-09" izz="1e-09" ixy="0" ixz="0" iyz="0"/>
      </inertial>
   </link>
   <joint type="fixed" name="ring_mp2ring_fingertip_fixed">
      <parent link="ring_mp"/>
      <child link="ring_mp2ring_fingertip_fixed_jointbody"/>
      <origin xyz="-0.009 0.0 0.04" rpy="0.0 0.0 0.0"/>
   </joint>
   <joint type="fixed" name="ring_mp2ring_fingertip_fixed_offset">
      <parent link="ring_mp2ring_fingertip_fixed_jointbody"/>
      <child link="ring_fingertip"/>
      <origin xyz="-0.0 -0.0 -0.0" rpy="0.0 0.0 0.0"/>
   </joint>
   <material name="white">
      <color rgba="1 1 1 1"/>
   </material>
</robot>
